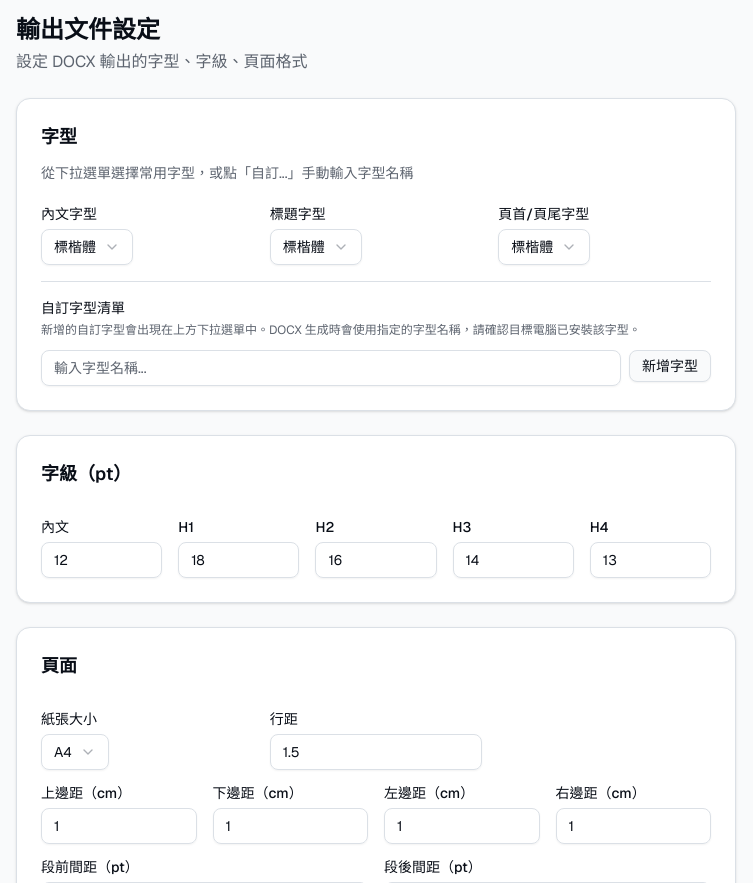
Test: DocumentSettingsPage — 自訂字型管理 › 可新增自訂字型
Type "思源黑體" into the field with placeholder "輸入字型名稱...".
click(331, 368); type("思源黑體")  # box [41,350,621,386]
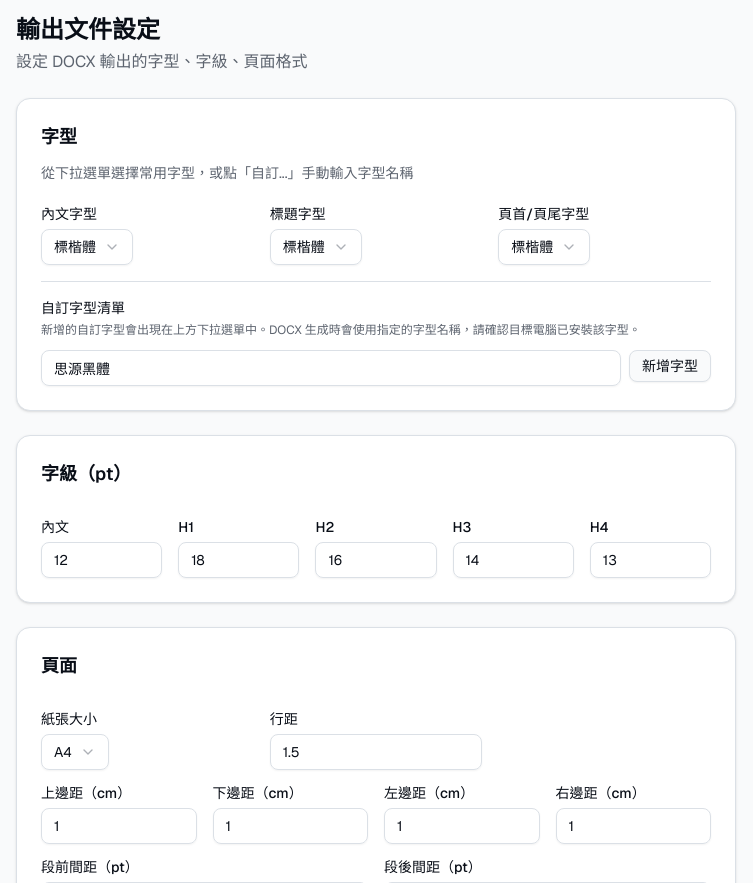
Click the button "新增字型".
click(670, 366)  # box [629,350,711,382]
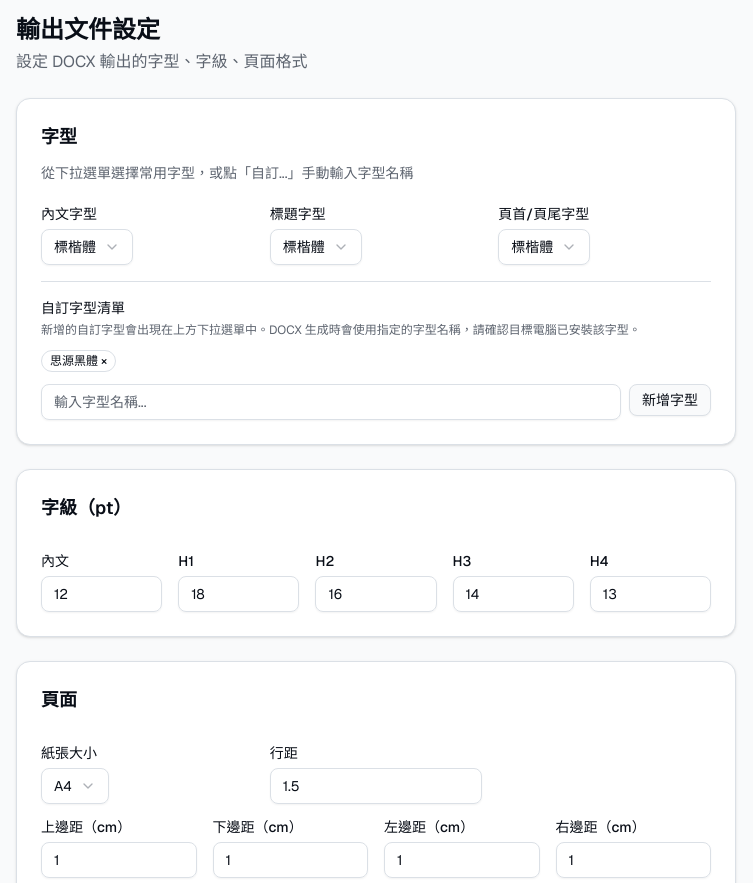
Check: the text "思源黑體 ×" is shown, box [41,350,116,372]
